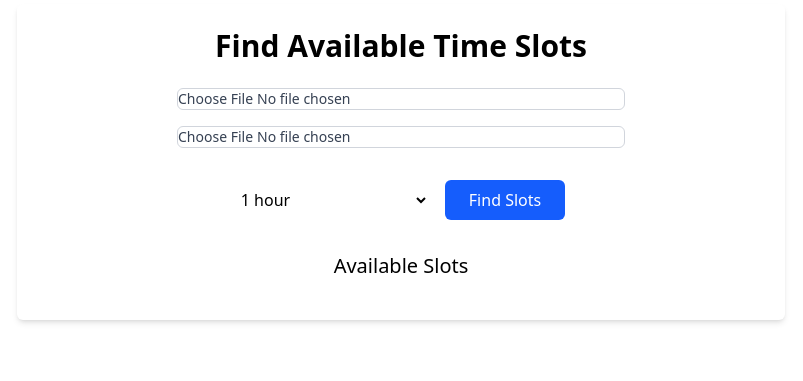
it: App component › displays error message on failure
Click the button "Find Slots" at coordinates (505, 200), box [445,180,565,220]
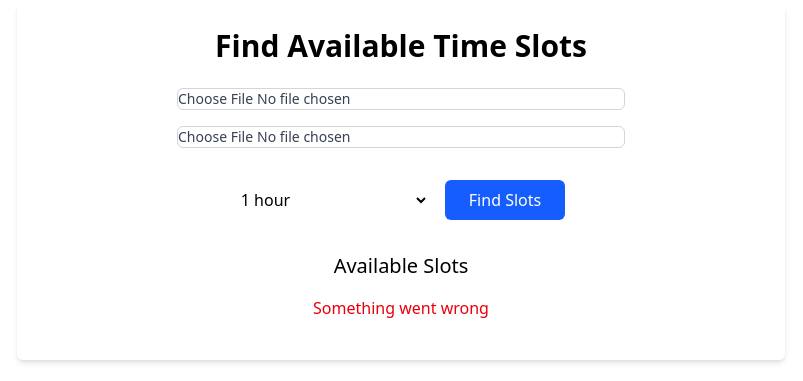
Check: the text "Something went wrong" is shown, box [313,297,489,319]
